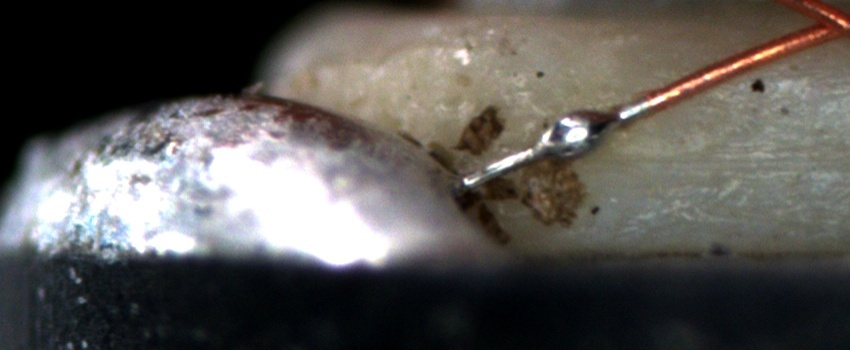CL: (789, 2, 850, 46)
DL: (615, 127, 850, 191), (683, 54, 850, 118)
TB: (538, 102, 622, 166)
TS: (456, 100, 649, 193)
TTCW: (452, 85, 676, 189)
